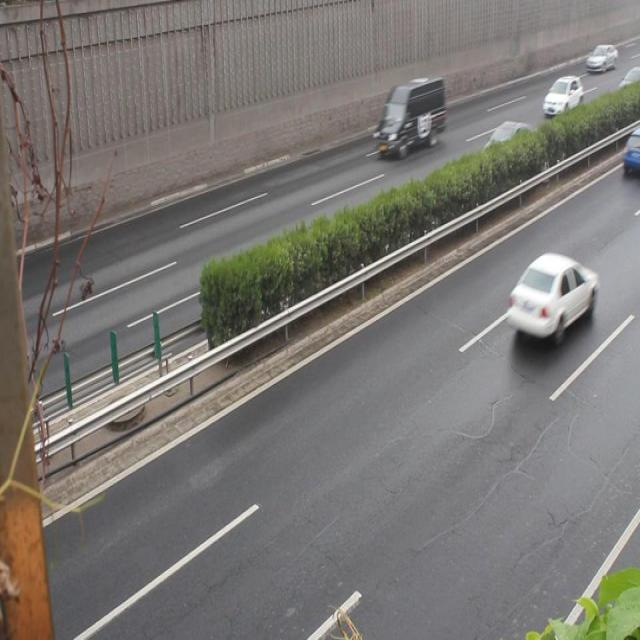car: (505, 250, 595, 338), (479, 117, 531, 172), (539, 71, 580, 116)
